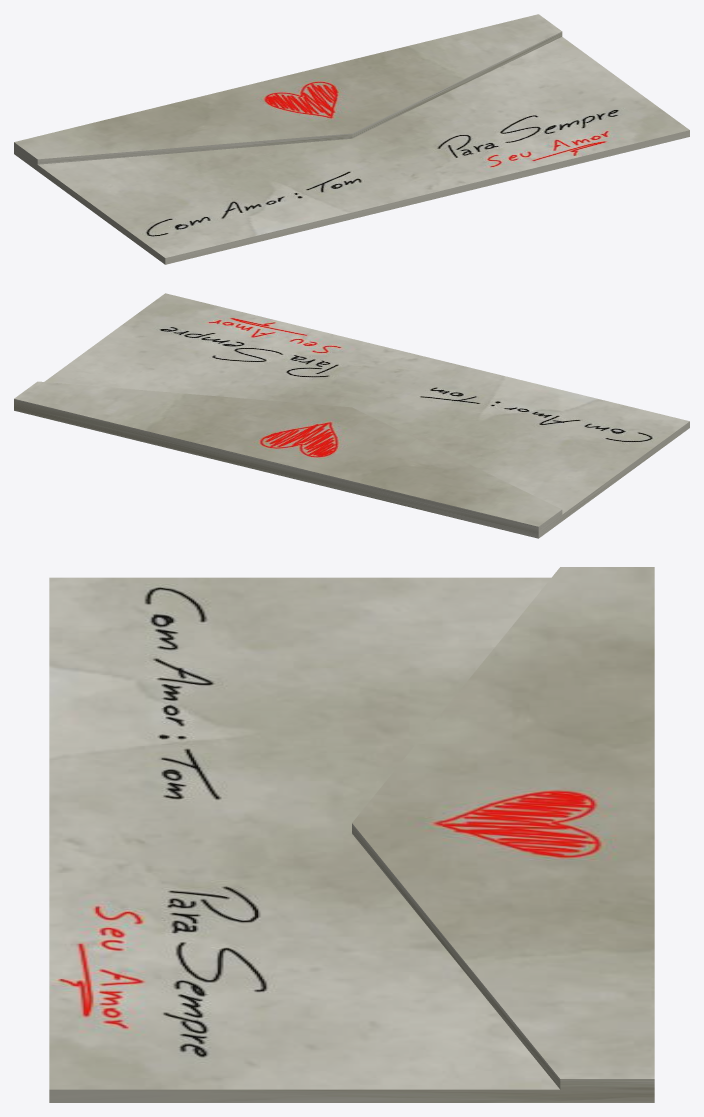
Rendered from Carta.fbx.
The picture shows the model from 3 angles, top to bottom: view 1: azimuth 30°, elevation 25°; view 2: azimuth 150°, elevation 25°; view 3: azimuth 270°, elevation 25°; orthographic projection. The views are drawn at different scales.
Visible parts, largest first — view 1: Cube; view 2: Cube; view 3: Cube.
Part boxes in pixels (x1,y1,x2,y2): Cube: (14, 14, 689, 264); Cube: (14, 293, 689, 538); Cube: (49, 567, 654, 1102).
Bounding box in the file's own units: 0.2496 × 0.00544 × 0.1247.
Materials: 1 (1 with a texture image).
